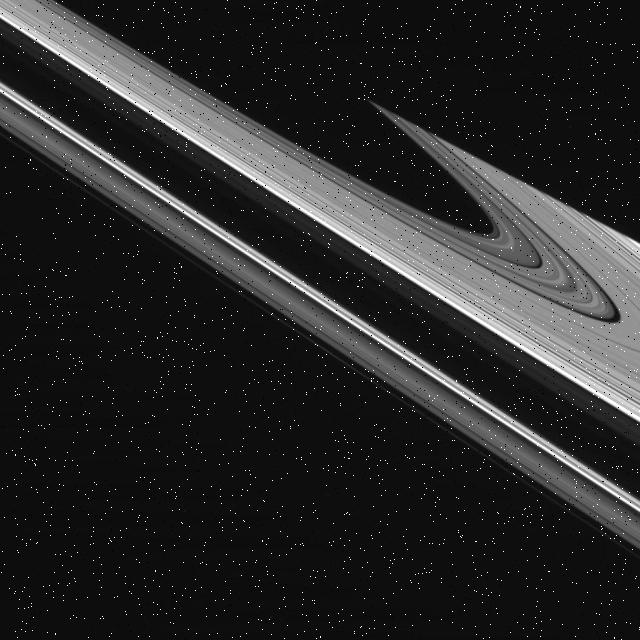Saturn: (0, 0, 640, 572)
